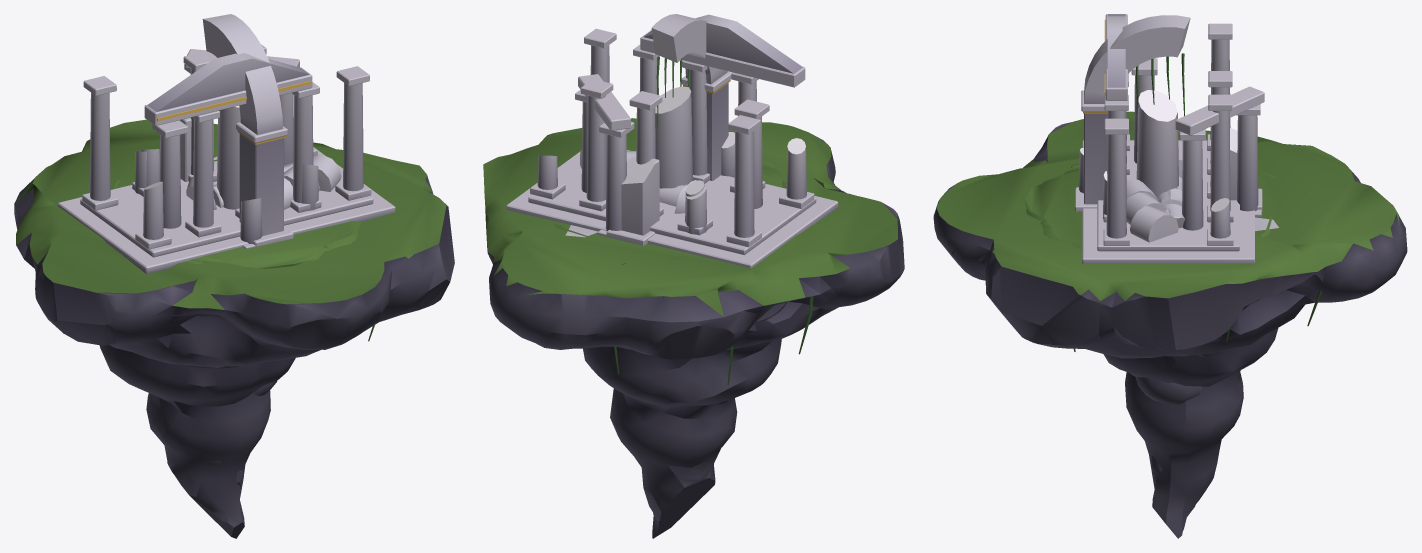
Rendered from skyruins_backdrop.glb.
The picture shows the model from 3 angles, left to right: view 1: azimuth 30°, elevation 25°; view 2: azimuth 150°, elevation 25°; view 3: azimuth 270°, elevation 25°; orthographic projection. The views are drawn at different scales.
Visible parts, largest first — view 1: IslandB__rock, IslandB__marble, IslandB__grass, FarArch__marble, IslandA__marble, IslandA__grass, IslandC__marble; view 2: IslandB__rock, IslandB__grass, IslandB__marble, FarArch__marble, IslandA__marble, IslandC__marble, FarArch__chip, IslandA__grass, Toppled__marble, IslandC__chip; view 3: IslandB__rock, IslandB__grass, IslandB__marble, IslandA__marble, FarArch__marble, IslandC__marble, IslandA__grass, IslandA__rock, IslandC__chip, Toppled__marble.
Part boxes in pixels (x1,y1,x2,y2): IslandB__rock: [14, 175, 454, 538]; IslandB__marble: [58, 44, 395, 273]; IslandB__grass: [14, 119, 448, 309]; FarArch__marble: [180, 14, 293, 246]; IslandA__marble: [135, 49, 318, 248]; IslandA__grass: [53, 159, 360, 268]; IslandC__marble: [217, 107, 341, 209]; IslandB__rock: [487, 134, 904, 538]; IslandB__grass: [483, 118, 897, 316]; IslandB__marble: [506, 14, 838, 268]; FarArch__marble: [606, 14, 731, 245]; IslandA__marble: [565, 74, 769, 237]; IslandC__marble: [580, 92, 692, 188]; FarArch__chip: [621, 28, 677, 184]; IslandA__grass: [554, 160, 821, 270]; Toppled__marble: [659, 180, 696, 213]; IslandC__chip: [655, 86, 691, 113]; IslandB__rock: [933, 122, 1407, 538]; IslandB__grass: [937, 111, 1399, 300]; IslandB__marble: [1082, 14, 1254, 263]; IslandA__marble: [1075, 58, 1278, 230]; FarArch__marble: [1075, 15, 1262, 211]; IslandC__marble: [1126, 101, 1178, 242]; IslandA__grass: [1024, 163, 1310, 248]; IslandA__rock: [1136, 377, 1202, 476]; IslandC__chip: [1138, 90, 1177, 121]; Toppled__marble: [1157, 160, 1184, 219].
Size of the model in its own units: 12.35 by 15.65 by 13.16.
